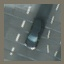car: (21, 17, 45, 50)
